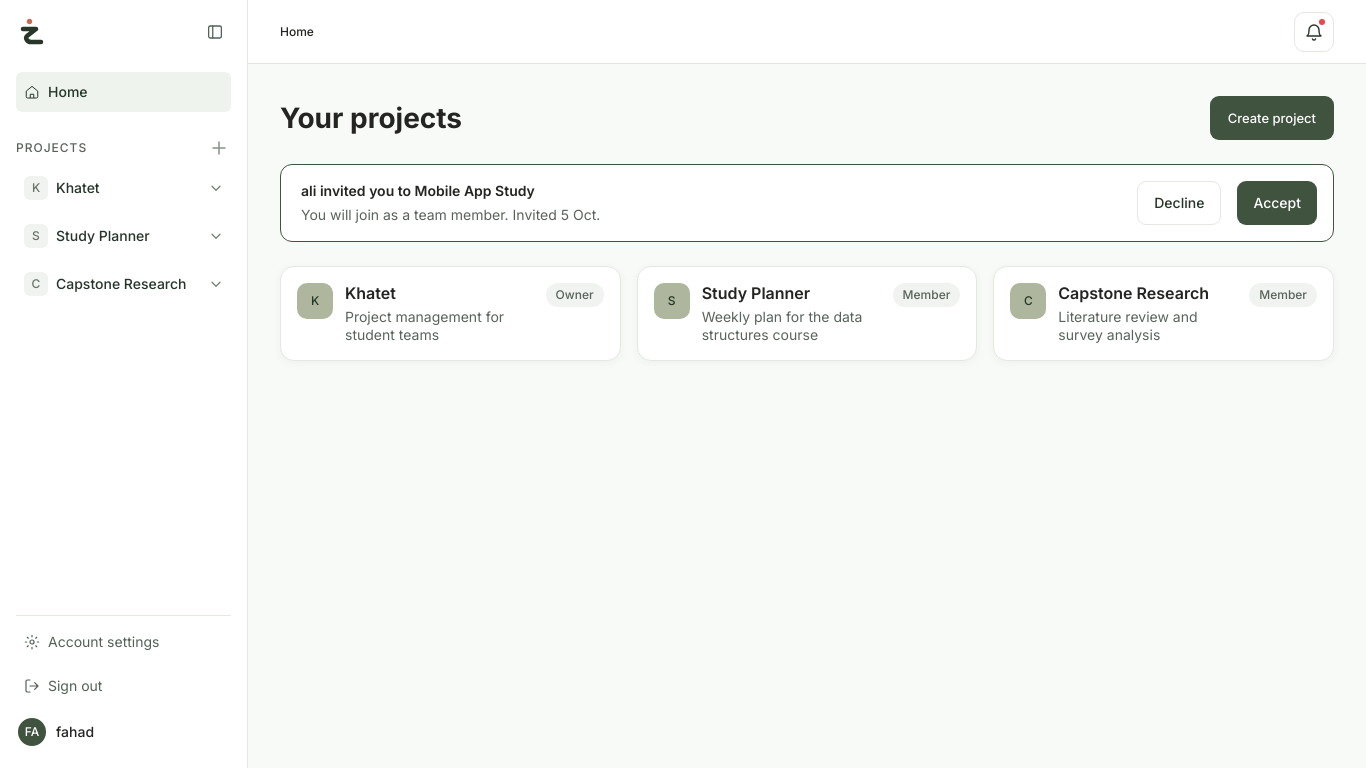
Test case: notifications (US-08, US-30) › shows a pending invitation on Home and accepts it there
Expected: the text "ali invited you to Mobile App Study" is shown, x1=301 y1=182 x2=535 y2=199
Click the button "Accept": (1277, 203) x1=1237 y1=181 x2=1317 y2=225
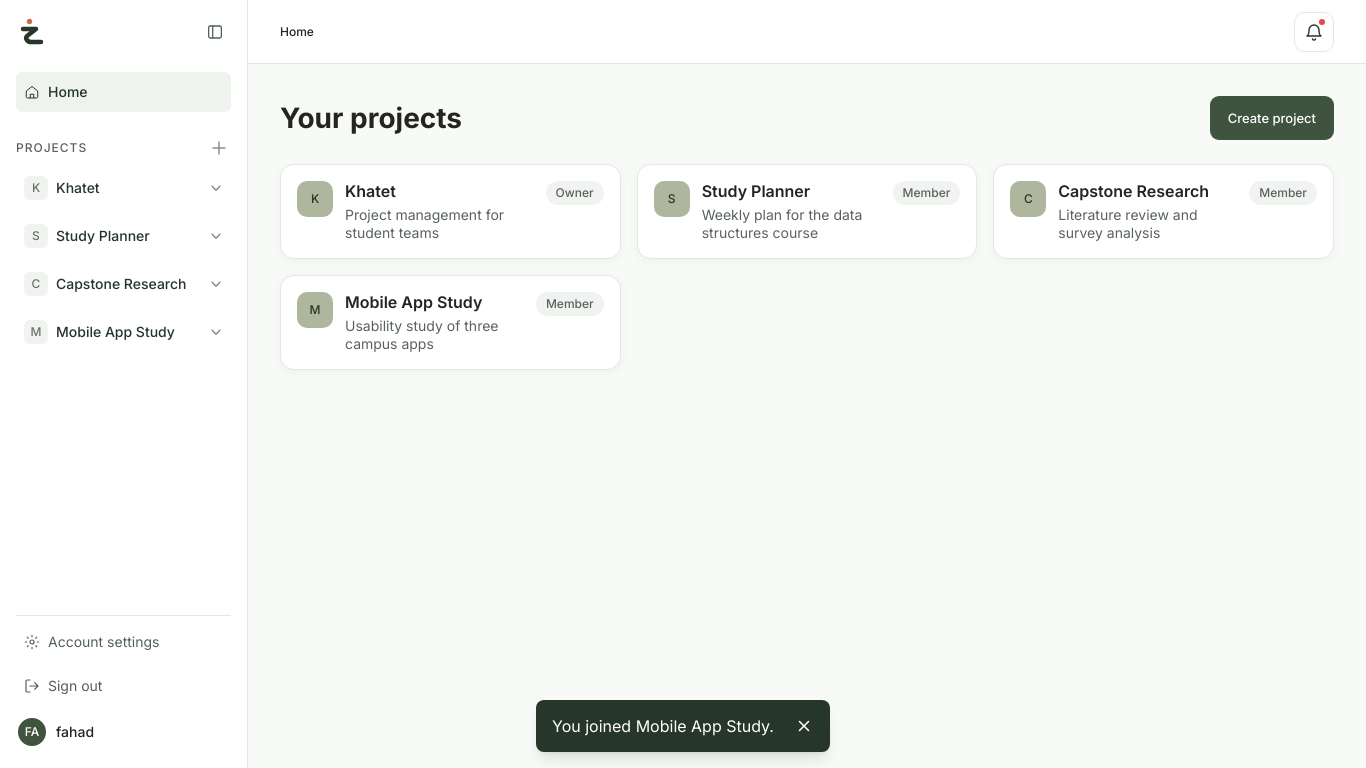
Expected: the link that starts with "Mobile App Study" is shown, x1=280 y1=275 x2=621 y2=370
Expected: the element "Invitations" is gone
